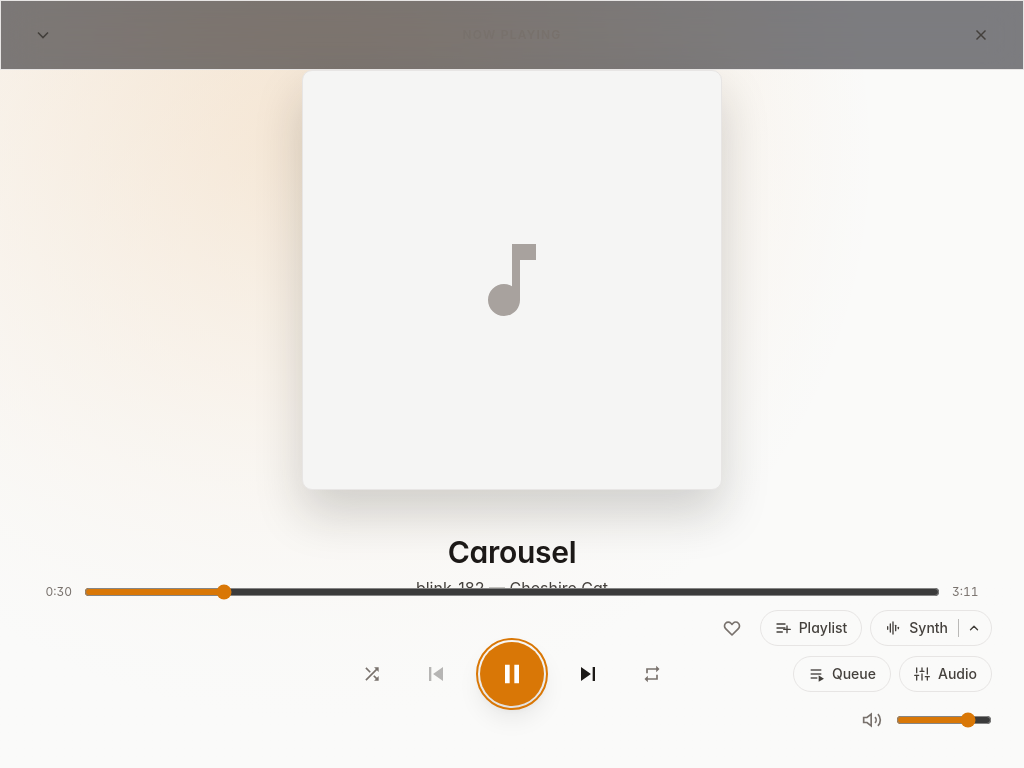
it: music now playing › opens the audio settings above the control bar
Click the button "Audio" at [946, 674], box [899, 656, 992, 692]
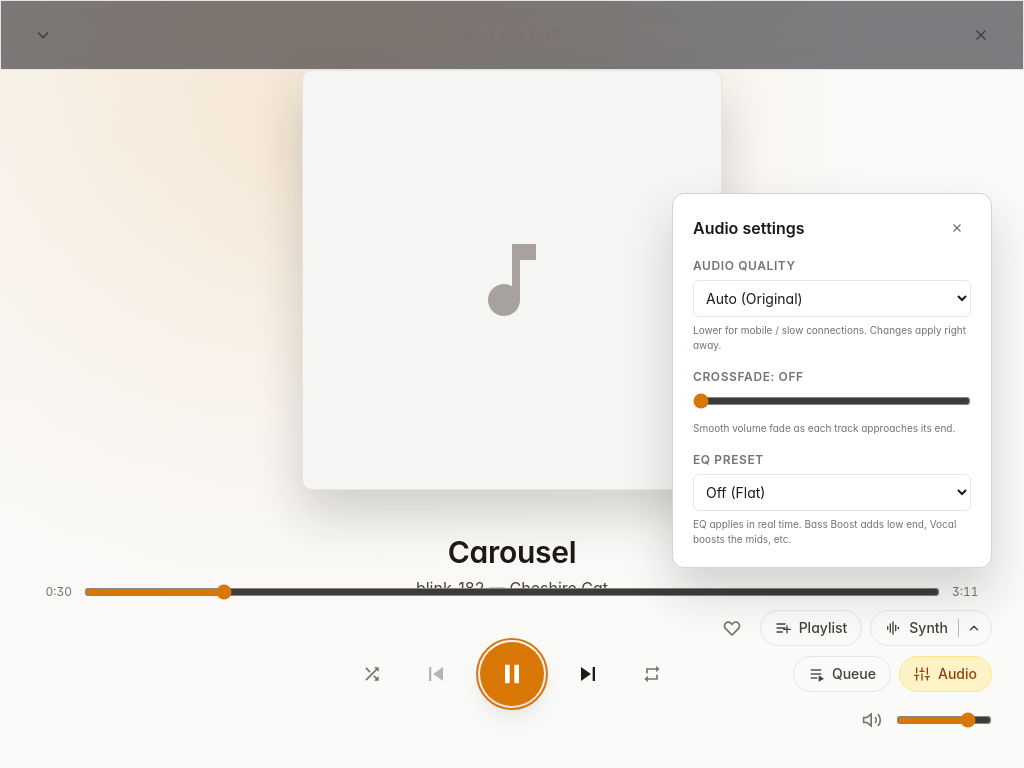
Now the element with id "now-playing-audio-settings" is shown, box [672, 193, 992, 568]
